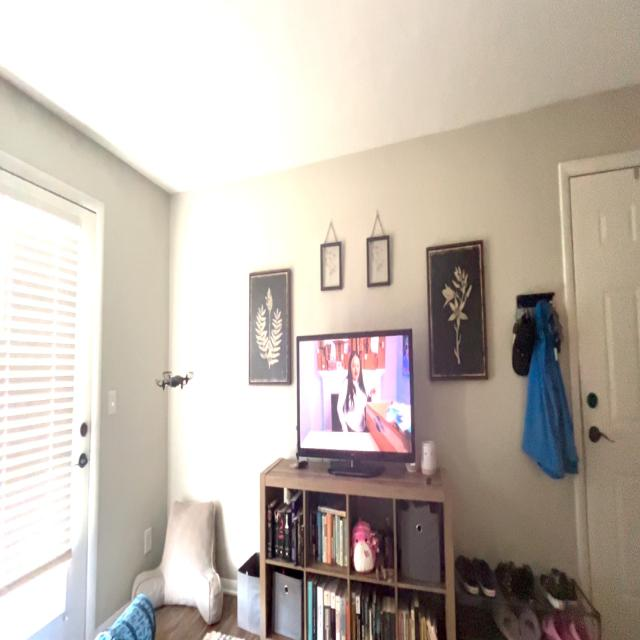drone: (150, 361, 196, 401)
